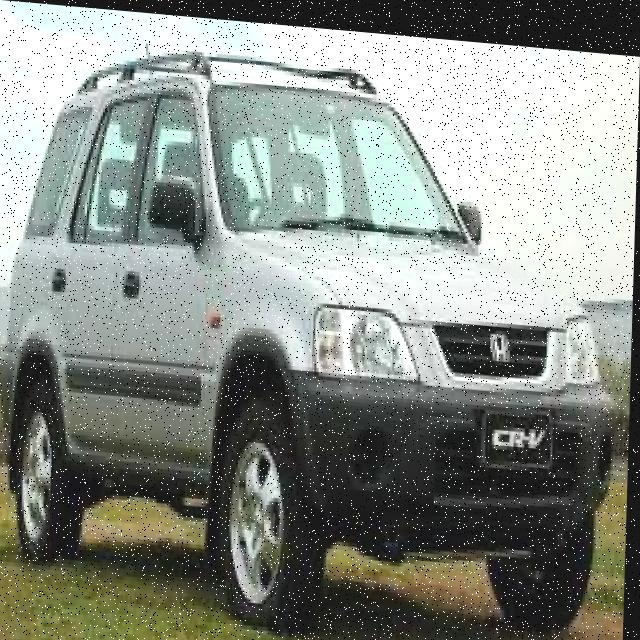car: (6, 58, 619, 640)
